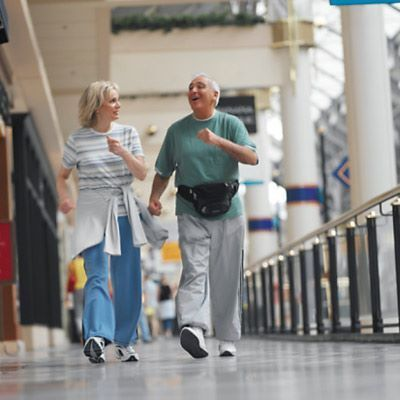Person: (152, 77, 251, 353), (58, 83, 148, 362)
